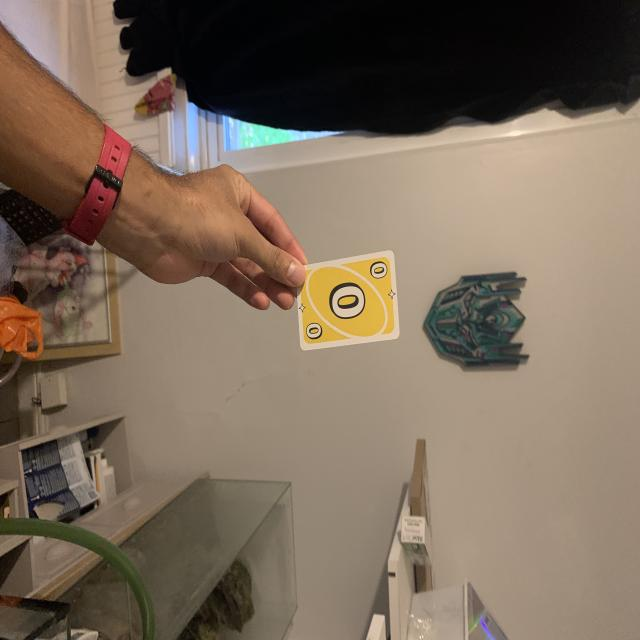lyellow-0: (368, 259, 391, 284)
